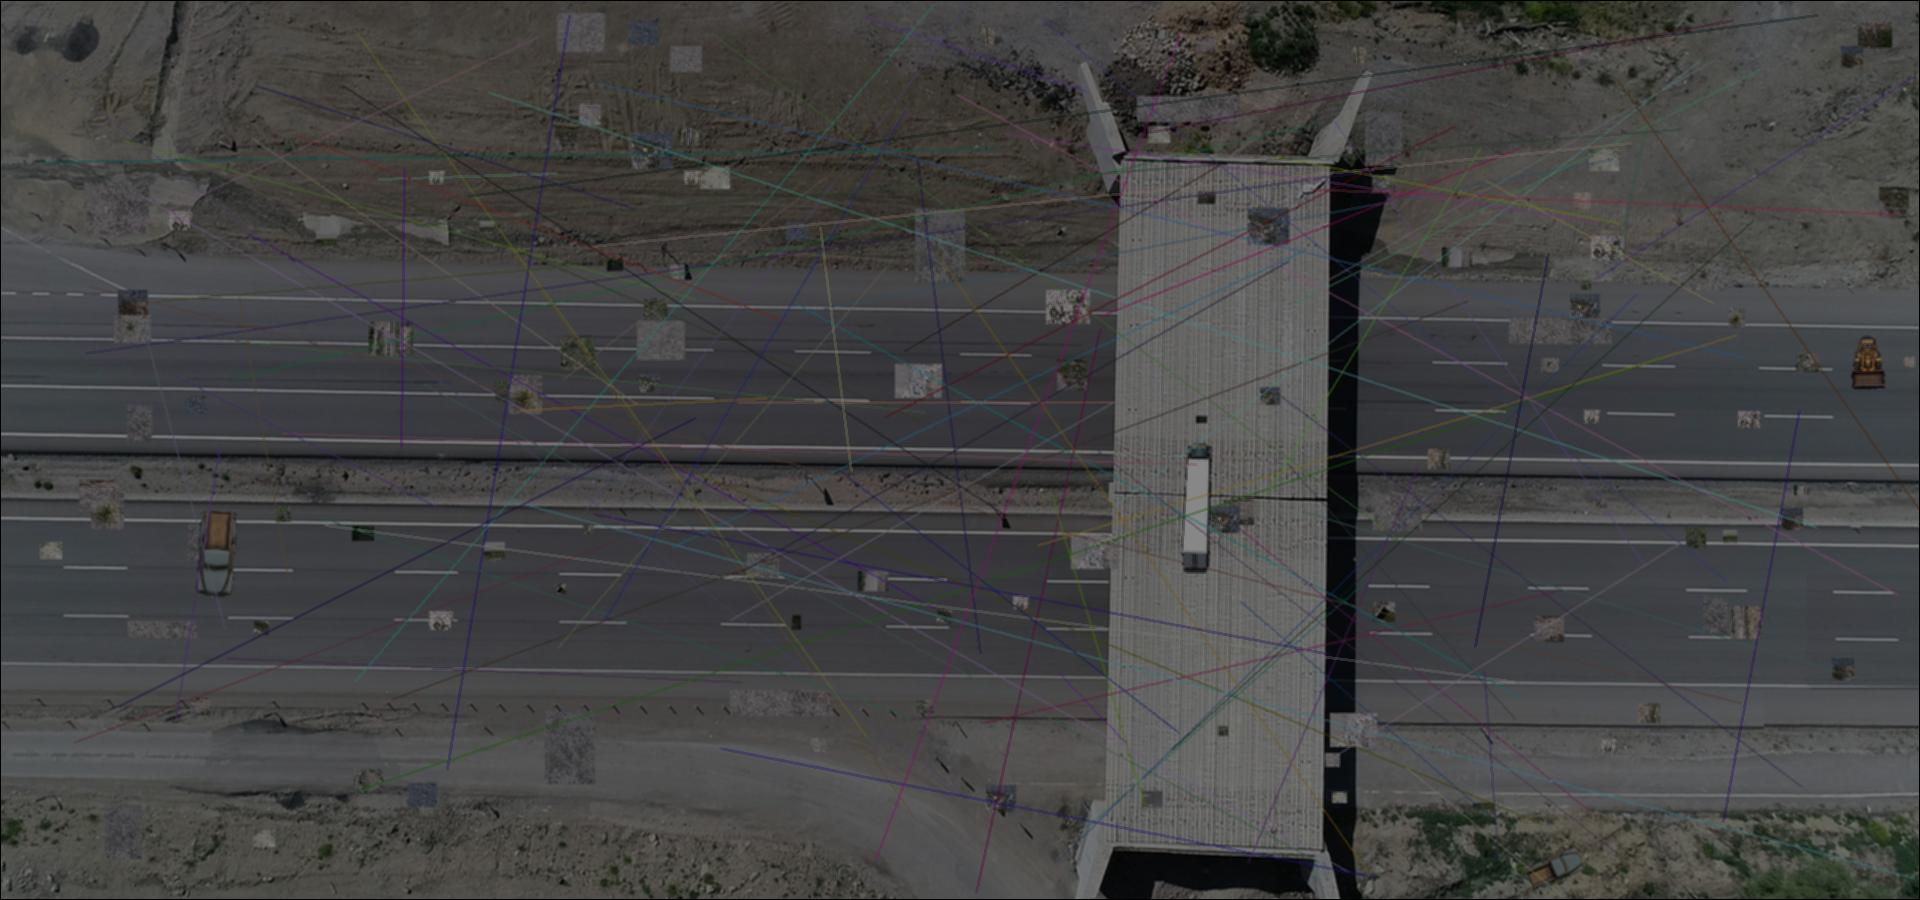arac: (1177, 440, 1213, 573), (196, 511, 238, 598), (1526, 845, 1587, 889), (1850, 336, 1887, 391)
